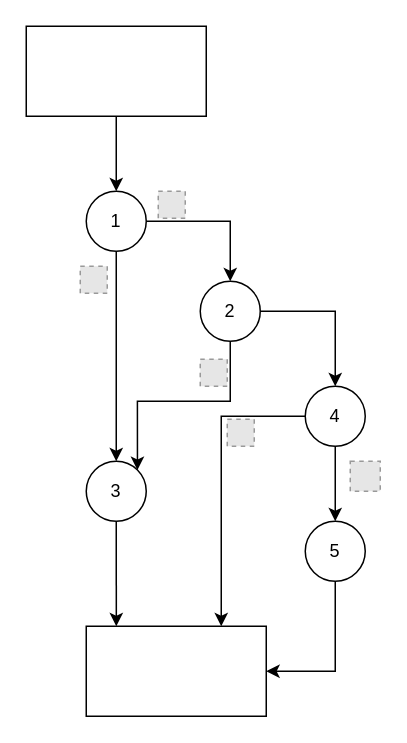
Some shapes in this 407 by 743 pixel diagram are drawn without their labels. Grey dashed boxes stand in for pictures. The shapes that lost their labels are listed below. From the top down, each one's centre as x and y in pixels, then its label:
the point at 115,70: START
the point at 175,670: FINISH
